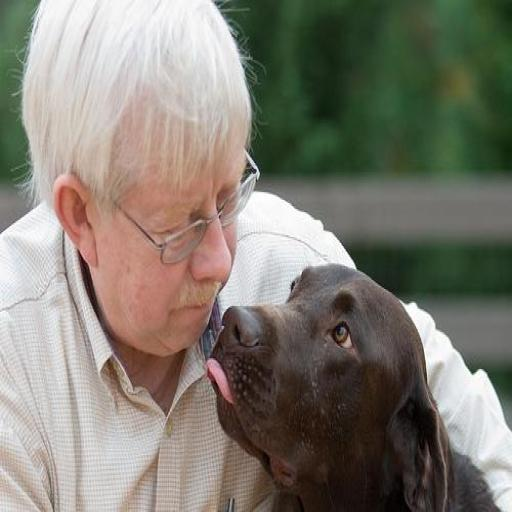dog_face: (205, 240, 432, 512)
